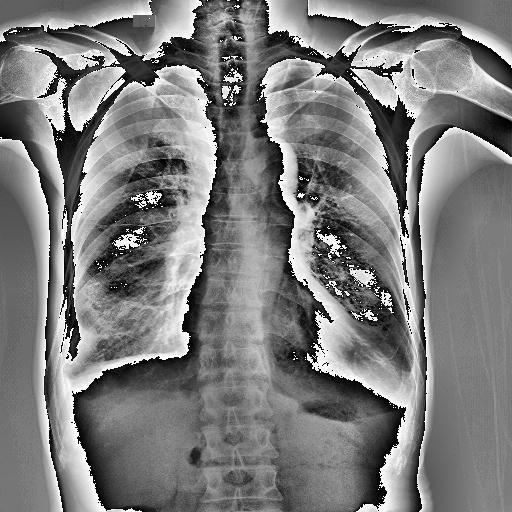0- Aortic enlargement: (234, 136, 300, 188)
10- Pleural effusion: (394, 346, 429, 435), (53, 346, 80, 399)
11- Pleural thickening: (48, 300, 101, 402), (306, 372, 420, 414), (52, 313, 102, 399), (60, 282, 99, 377), (394, 346, 429, 435), (53, 346, 80, 399), (385, 360, 419, 400)
